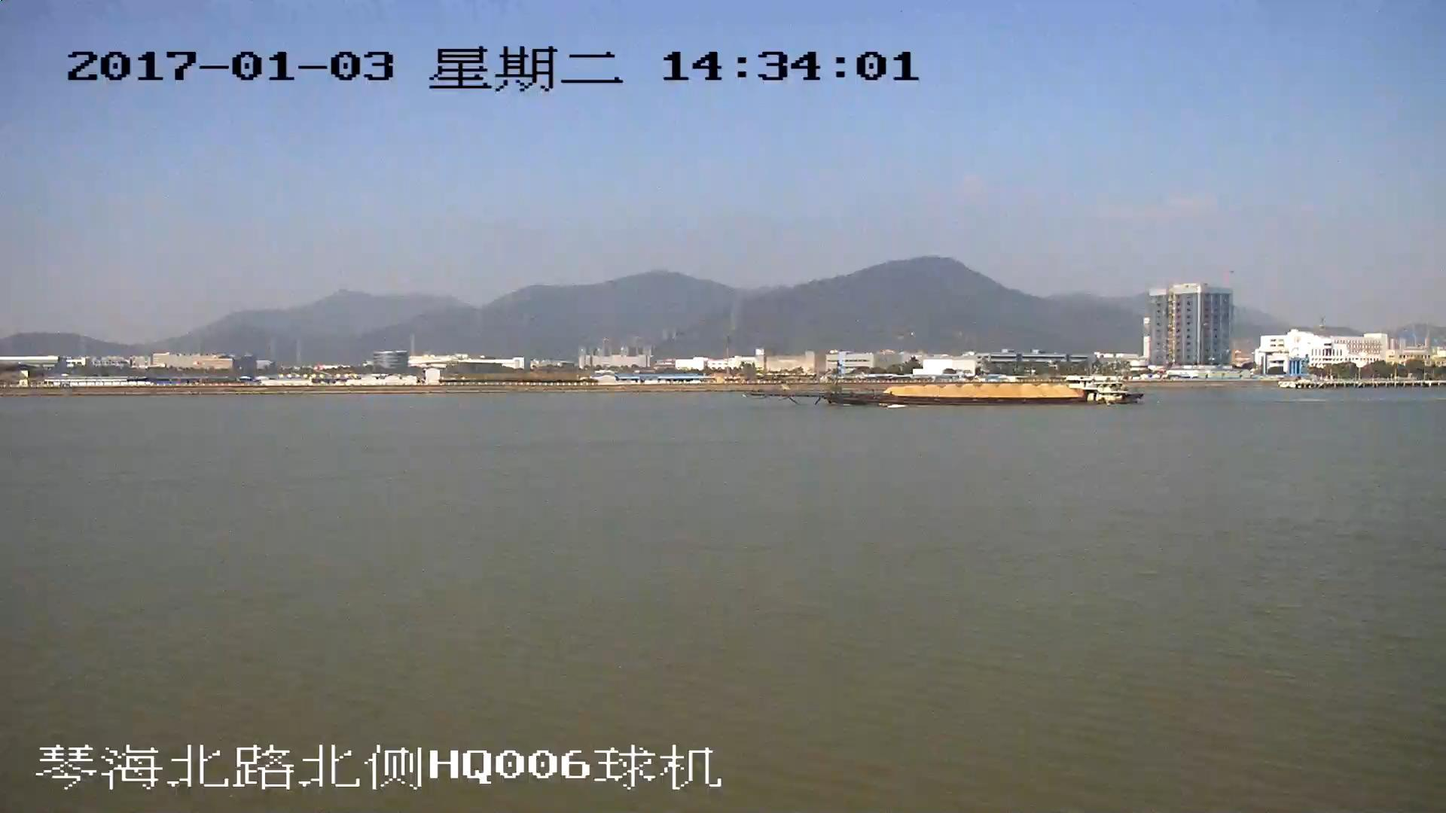ore carrier: (750, 373, 1140, 406)
